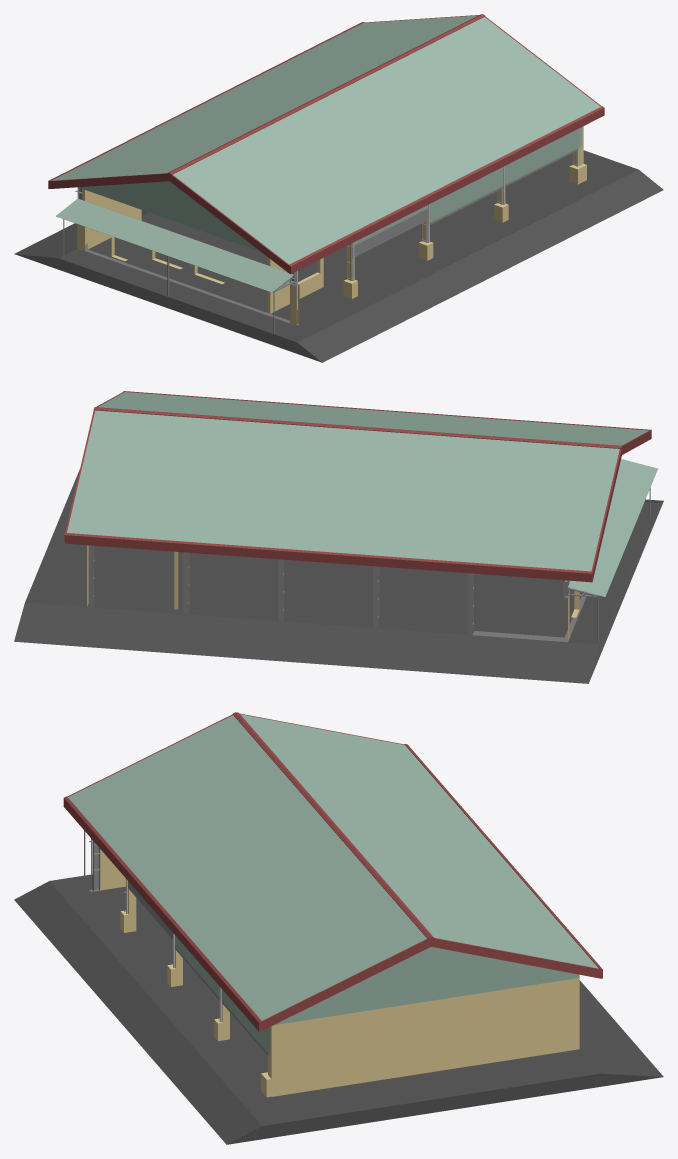
3 renders of one model, top to bottom at view 1: azimuth 30°, elevation 25°; view 2: azimuth 150°, elevation 25°; view 3: azimuth 270°, elevation 25°, orthographic. The views are drawn at different scales.
Parts seen in each view (by area): view 1: 元件#21, object 14, object 13, object 15, object 16; view 2: 元件#21, object 16, object 15, object 13, object 14, object 32, object 11, object 20, object 33; view 3: 元件#21, object 12, object 14, object 15, object 16.
Part boxes in pixels (x1,y1,x2,y2): 元件#21: (14,15,663,362); object 14: (289,106,604,274); object 13: (49,173,289,273); object 15: (167,14,485,174); object 16: (48,22,363,188); 元件#21: (14,392,663,683); object 16: (64,532,592,582); object 15: (93,407,622,448); object 13: (591,430,651,580); object 14: (123,391,651,438); object 32: (183,552,189,614); object 11: (278,559,284,621); object 20: (373,566,379,628); object 33: (88,545,94,607); 元件#21: (14,714,663,1144); object 12: (260,938,601,1031); object 14: (63,796,262,1031); object 15: (232,712,433,938); object 16: (404,744,602,978).
Bounding box in the file's own units: 30.59 × 7.08 × 26.86.
